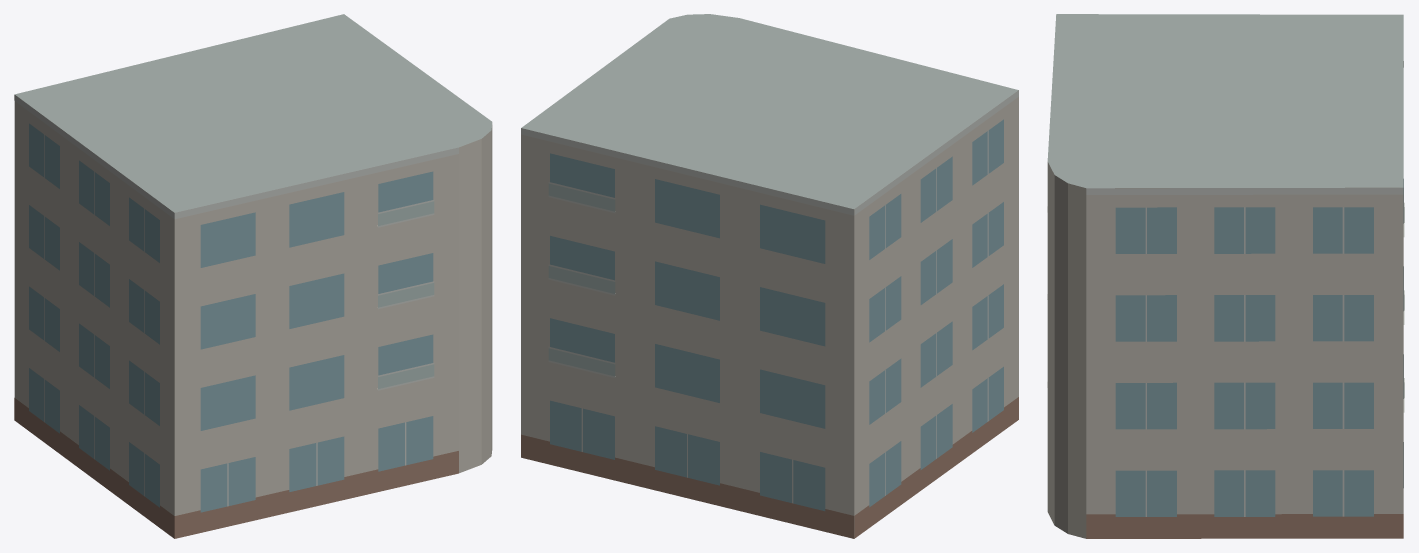
Rendered from survey-upis-32813820.glb.
3 renders of one model, left to right at view 1: azimuth 30°, elevation 25°; view 2: azimuth 150°, elevation 25°; view 3: azimuth 270°, elevation 25°, orthographic. The views are drawn at different scales.
Visible parts, largest first — view 1: survey-upis-32813820.tmp; view 2: survey-upis-32813820.tmp; view 3: survey-upis-32813820.tmp.
Boxes of the visible parts, x1,y1,x2,y2 form: survey-upis-32813820.tmp: (14,14,492,538); survey-upis-32813820.tmp: (521,14,1018,538); survey-upis-32813820.tmp: (1047,14,1404,538).
Size of the model in its own units: 13.21 by 12.4 by 11.46.
